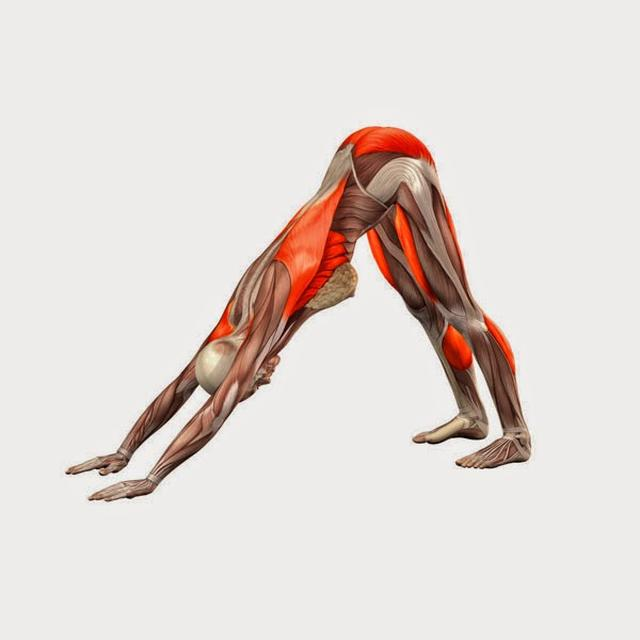Downward-Facing_Dog: (61, 113, 539, 509)
